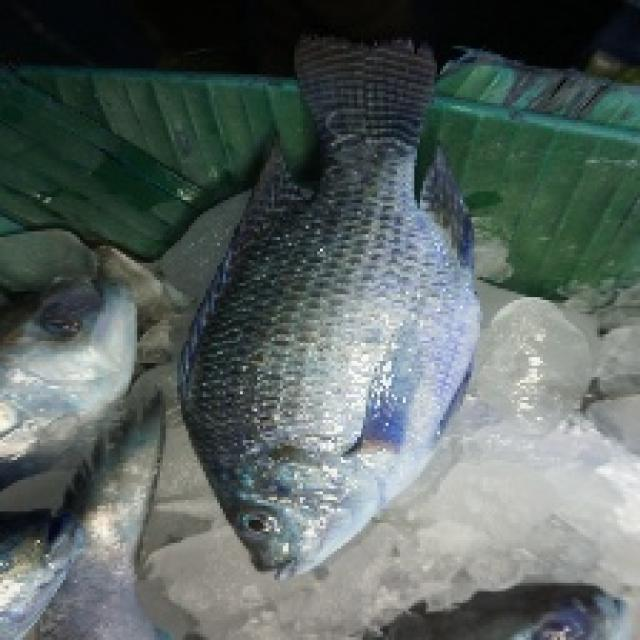Fresh: (179, 119, 490, 581)
